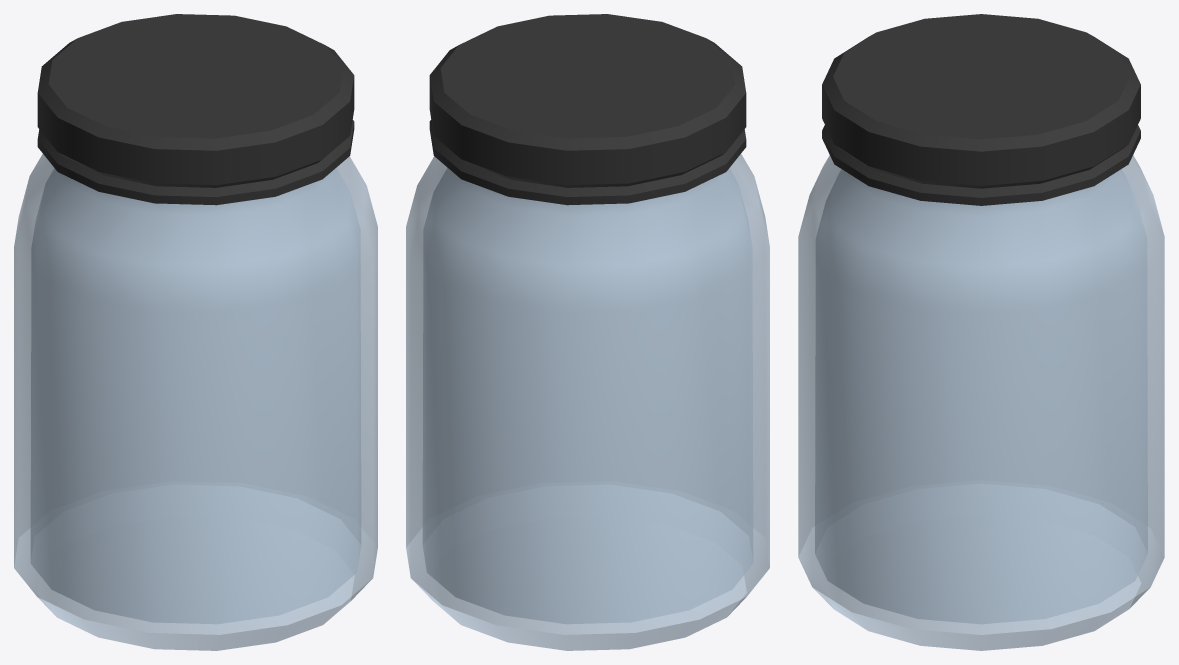
Rendered from Jar.FBX.
3 views of the same model, side by side, from view 1: azimuth 30°, elevation 25°; view 2: azimuth 150°, elevation 25°; view 3: azimuth 270°, elevation 25° (orthographic).
Visible parts, largest first — view 1: Jar; view 2: Jar; view 3: Jar.
Boxes of the visible parts, box(x1,y1,x2,y2) form: Jar: box(14, 14, 377, 650); Jar: box(406, 14, 769, 650); Jar: box(798, 14, 1164, 650).
Bounding box in the file's own units: 40.94 × 62.48 × 40.94.
